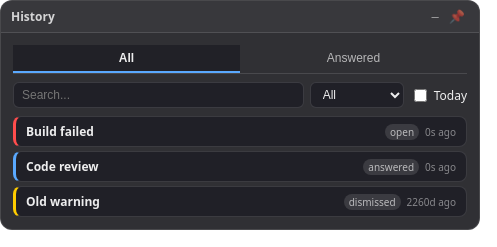
HistoryWidget › filters by status
This screenshot has width=497, height=247.
Expected: the text "Build failed" is shown, [26, 123, 94, 140]
Select "Answered" in the dropdown at (357, 95), box [310, 82, 404, 108]
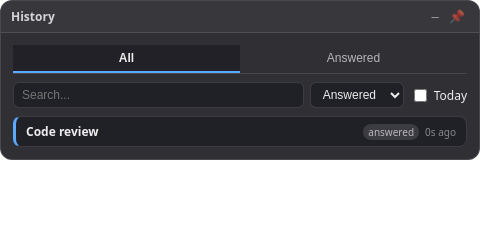
Expected: the text "Code review" is shown, [26, 123, 99, 140]
Result: the text "Build failed" is gone
